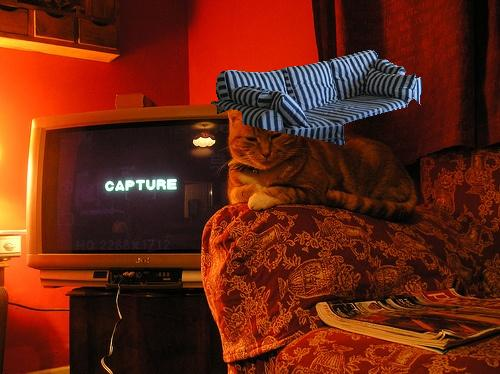tampered: (212, 51, 422, 145)
